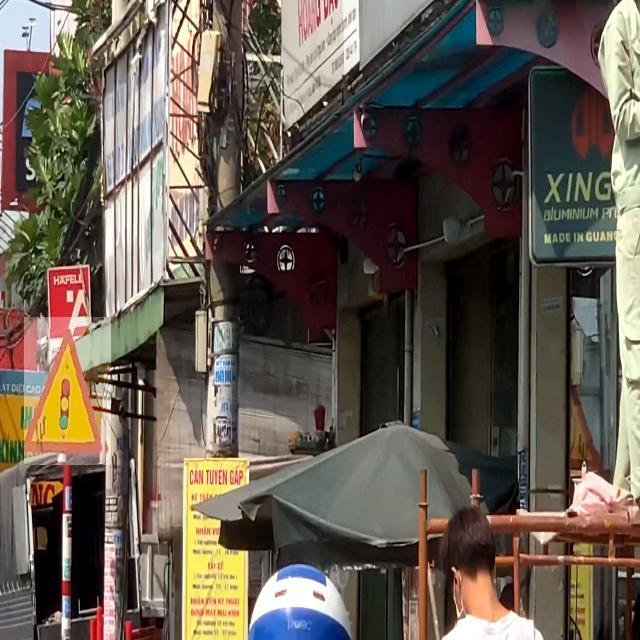W-209: (24, 317, 111, 465)
